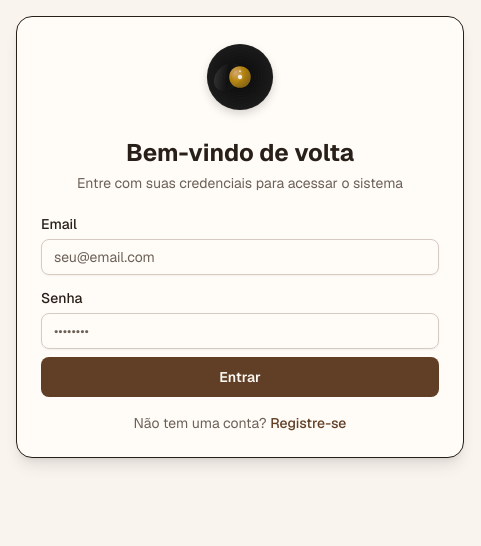
Test: LoginPage › exibe erro com credenciais inválidas › should show error message on 401 response
The image size is (481, 546).
In the field labelled "Email": {"x": 240, "y": 257} [41,239,439,275], type "wrong@test.com"
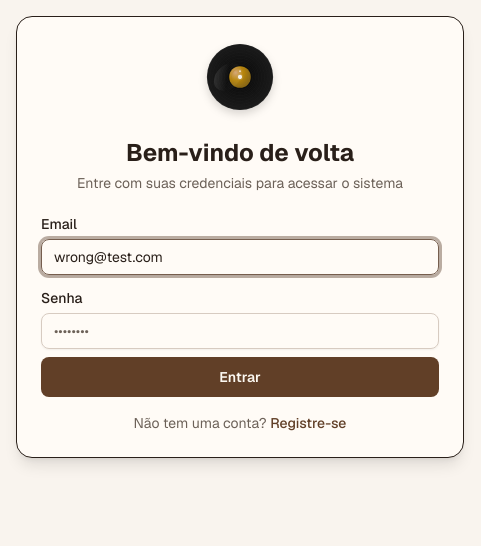
In the password field labelled "Senha": {"x": 240, "y": 331} [41,313,439,349], type "wrongpassword"
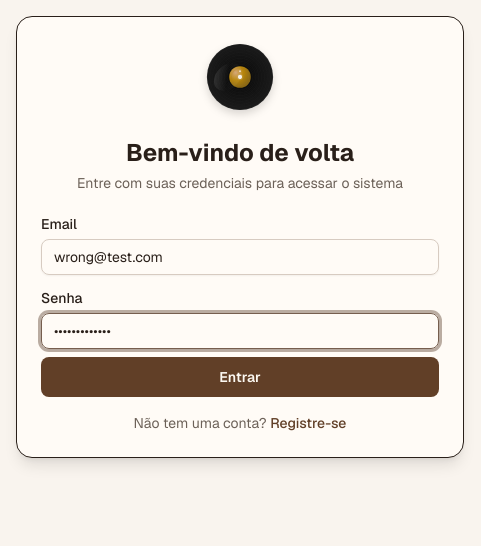
Click the button "Entrar": {"x": 240, "y": 377} [41,357,439,397]
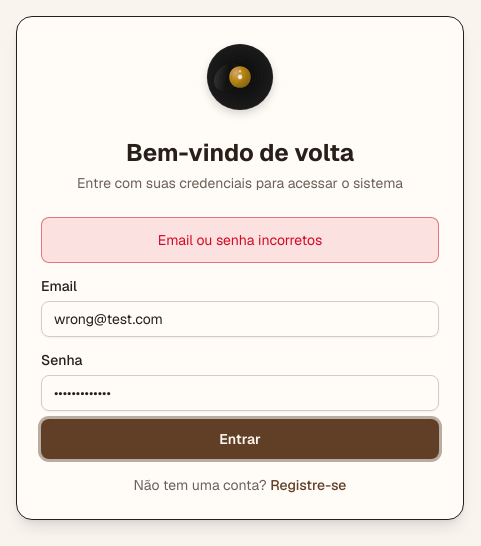
Check: the text "Email ou senha incorretos" is shown, box [41,217,439,263]
